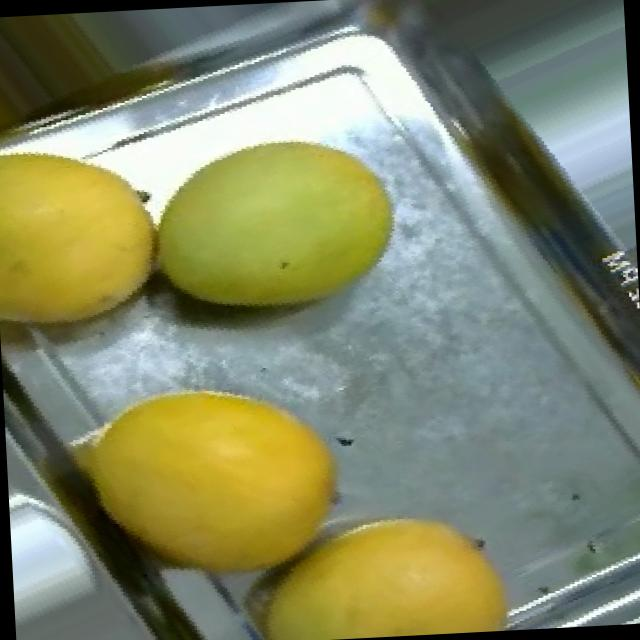fruit: (25, 321, 390, 640), (111, 74, 444, 362), (216, 448, 547, 640), (0, 72, 206, 380)
